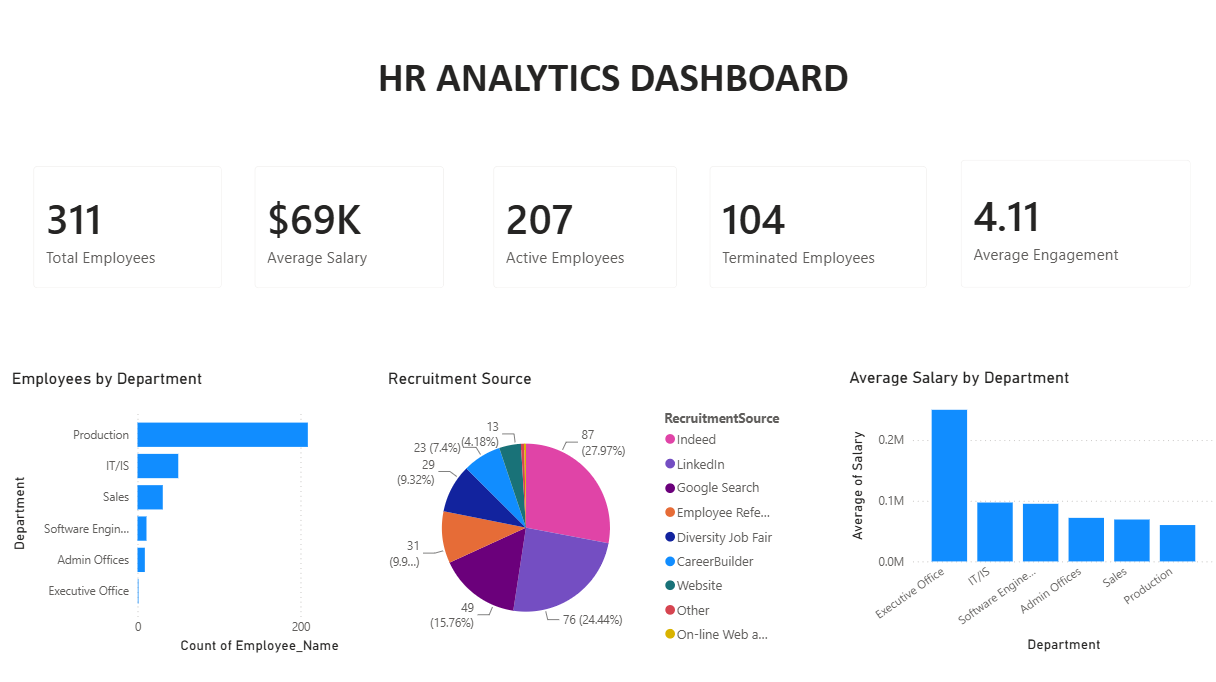

What the dashboard file says about the page in this screenshot:
{"tool":"powerbi","page":{"name":"HR Dashboard","canvas":[1280,720],"ordinal":0},"visuals":[{"type":"cardVisual","fields":{"Data":["HRDataset_v14.Total Employees"]},"box":[20.6,159.2,230.5,161.9],"z":0},{"type":"cardVisual","fields":{"Data":["HRDataset_v14.Average Salary"]},"box":[251.1,159.2,231.9,161.9],"z":1},{"type":"cardVisual","fields":{"Data":["HRDataset_v14.Active Employees"]},"box":[498.1,159.2,225,161.9],"z":2},{"type":"cardVisual","fields":{"Data":["HRDataset_v14.Terminated Employees"]},"box":[723.2,159.2,260.7,161.9],"z":3},{"type":"cardVisual","fields":{"Data":["HRDataset_v14.Average Engagement"]},"box":[983.9,153.7,273.1,167.4],"z":4},{"type":"clusteredBarChart","title":"Employees by Department","fields":{"Category":["HRDataset_v14.Department"],"Y":["CountNonNull(HRDataset_v14.Employee_Name)"]},"box":[11,387,404.8,300.5],"z":5},{"type":"pieChart","title":"Recruitment Source","fields":{"Category":["HRDataset_v14.RecruitmentSource"],"Y":["CountNonNull(HRDataset_v14.Employee_Name)"]},"box":[400.7,387,419.9,300.5],"z":6},{"type":"clusteredColumnChart","title":"Average Salary by Department","fields":{"Category":["HRDataset_v14.Department"],"Y":["Avg(HRDataset_v14.Salary)"]},"box":[881,385.6,389.7,300.5],"z":7},{"type":"textbox","box":[22,53.5,1236.4,68.6],"z":8}]}

Visuals, with their boxes in screenshot pixels (x1, y1, x2, y2), scaled from the page's 1280x720 canvas onto the 1216x682 screenshot:
cardVisual - HRDataset_v14.Total Employees: left=20, top=151, right=239, bottom=304
cardVisual - HRDataset_v14.Average Salary: left=239, top=151, right=459, bottom=304
cardVisual - HRDataset_v14.Active Employees: left=473, top=151, right=687, bottom=304
cardVisual - HRDataset_v14.Terminated Employees: left=687, top=151, right=935, bottom=304
cardVisual - HRDataset_v14.Average Engagement: left=935, top=146, right=1194, bottom=304
"Employees by Department" clusteredBarChart: left=10, top=367, right=395, bottom=651
"Recruitment Source" pieChart: left=381, top=367, right=780, bottom=651
"Average Salary by Department" clusteredColumnChart: left=837, top=365, right=1207, bottom=650
textbox: left=21, top=51, right=1195, bottom=116
